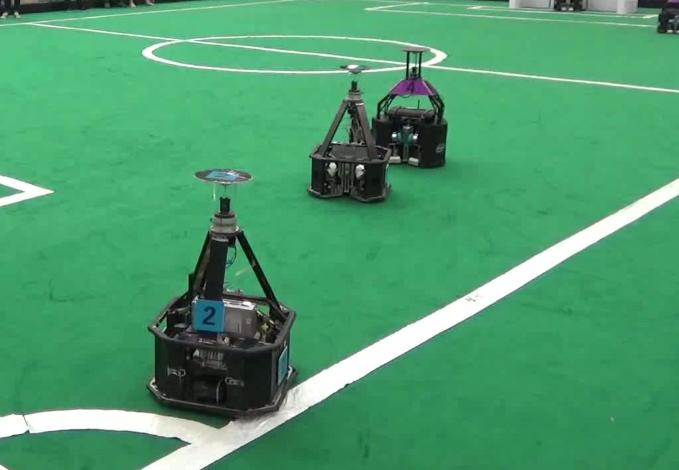robot: (139, 167, 305, 420), (305, 57, 395, 206), (369, 44, 451, 172)
